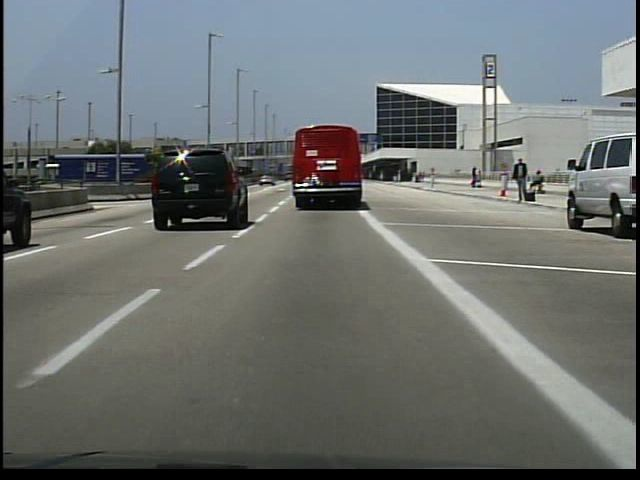person: (510, 154, 533, 209), (527, 167, 547, 198)
